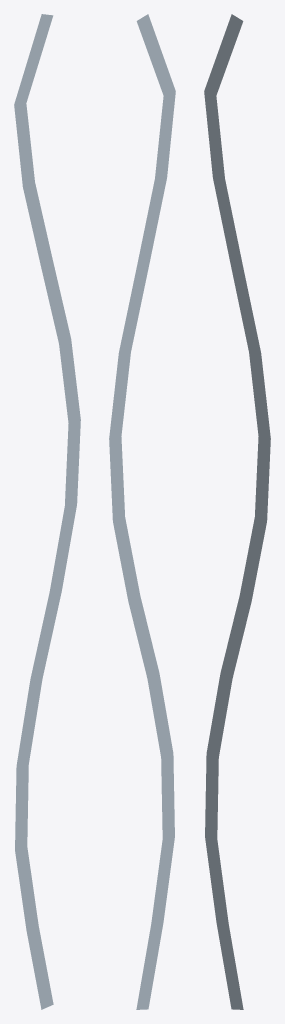
The model's file is 2065_Clap_ClampArc3.fbx.
3 renders of one model, left to right at view 1: azimuth 30°, elevation 25°; view 2: azimuth 210°, elevation 25°; view 3: azimuth 330°, elevation 25°, orthographic.
Visible parts, largest first — view 1: PART_ClampArc3; view 2: PART_ClampArc3; view 3: PART_ClampArc3.
Part boxes in pixels (x1,y1,x2,y2): PART_ClampArc3: (14, 14, 80, 1009); PART_ClampArc3: (109, 14, 175, 1009); PART_ClampArc3: (204, 14, 270, 1009).
Bounding box in the file's own units: 19.43 × 277 × 4.51e-05.
